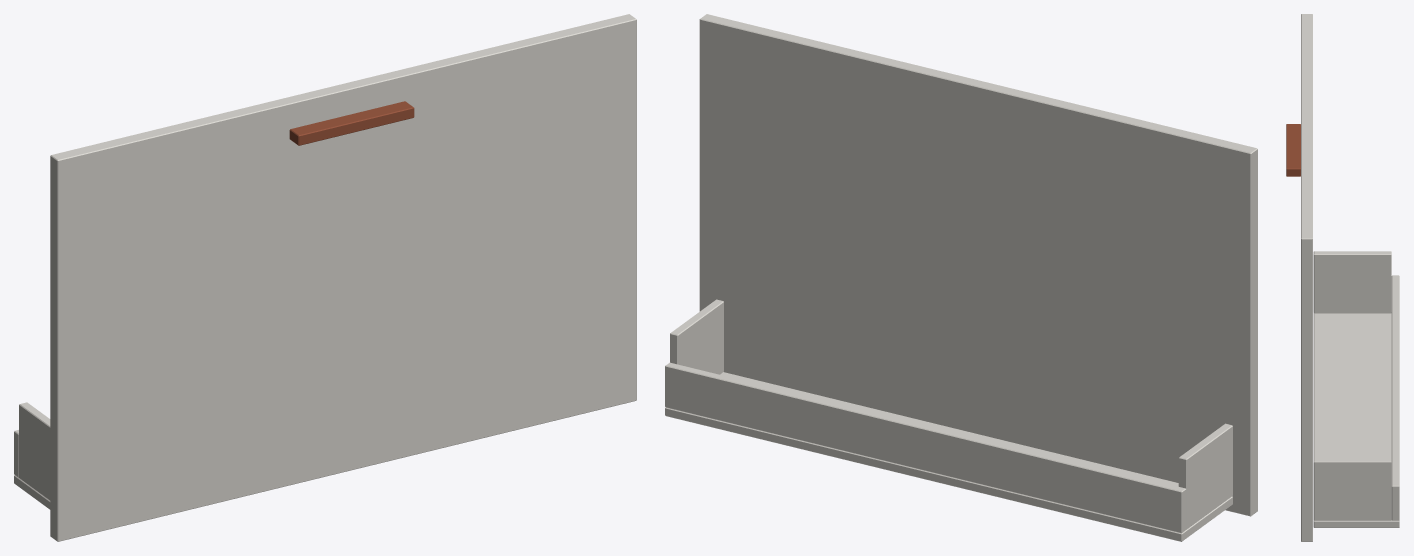
The model's file is shoe_cabinet_tipout_upper_compartment.glb.
3 views of the same model, side by side, from view 1: azimuth 30°, elevation 25°; view 2: azimuth 150°, elevation 25°; view 3: azimuth 270°, elevation 25° (orthographic). The views are drawn at different scales.
Parts seen in each view (by area): view 1: shoe_cabinet_tipout_upper_compartment.001; view 2: shoe_cabinet_tipout_upper_compartment.001; view 3: shoe_cabinet_tipout_upper_compartment.001.
Boxes of the visible parts, bbox=[...] form: shoe_cabinet_tipout_upper_compartment.001: bbox=[14, 14, 636, 541]; shoe_cabinet_tipout_upper_compartment.001: bbox=[665, 14, 1257, 541]; shoe_cabinet_tipout_upper_compartment.001: bbox=[1286, 14, 1399, 541].
Bounding box in the file's own units: 0.798 × 0.5025 × 0.17.
